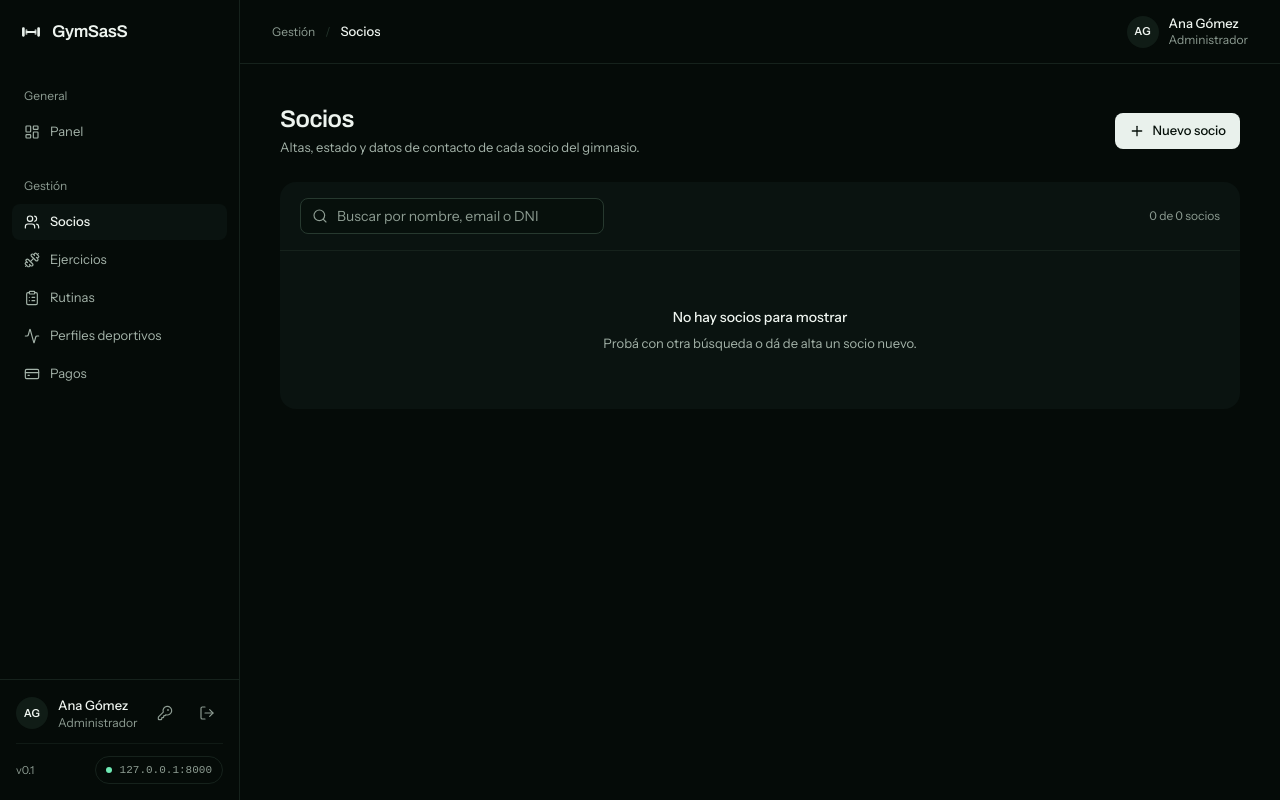
Test: RBAC y navegación › el admin abre el diálogo de alta de socio
Expected: the heading "Socios" is shown, [280,106,354,132]
Click the button "Nuevo socio" at point(1177, 131), box [1114,113,1240,149]
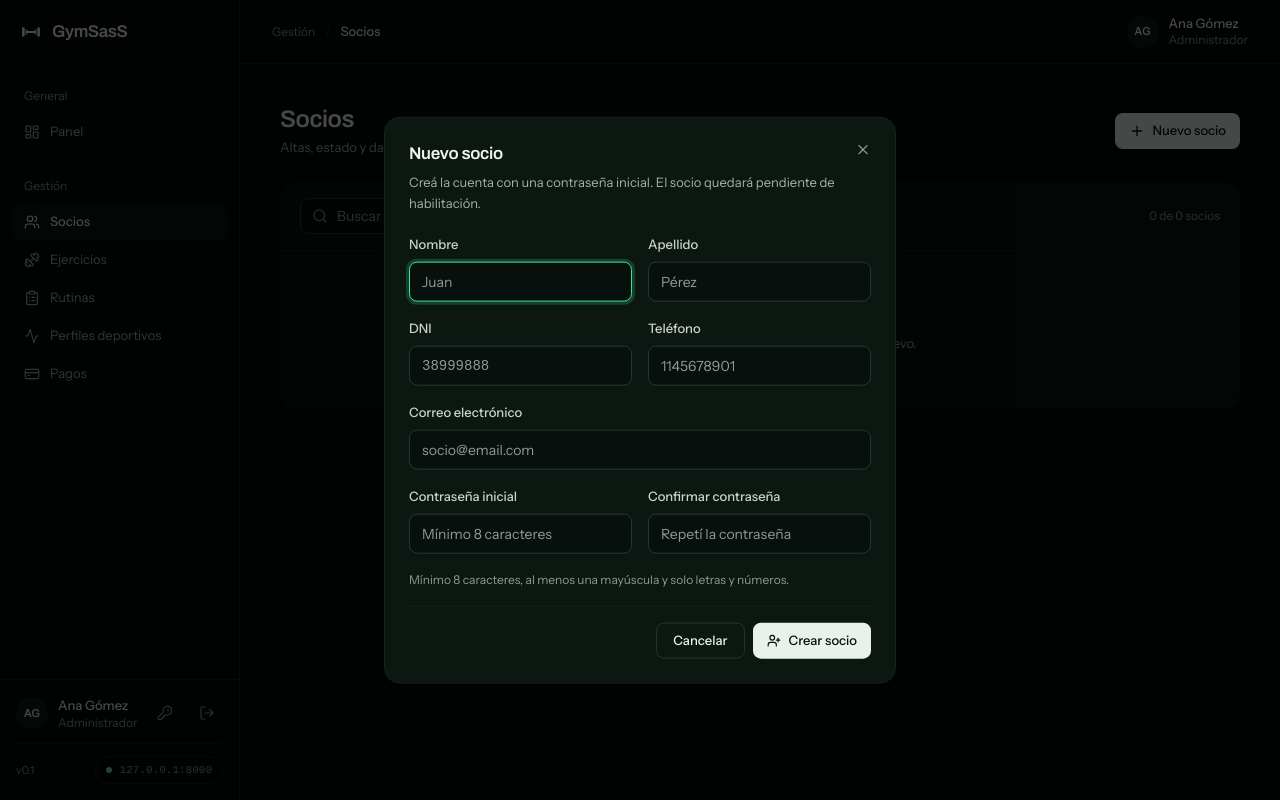
Now the heading "Nuevo socio" is shown, box [409,144,503,163]
Now the password field labelled "Contraseña inicial" is shown, box [409,514,632,554]
